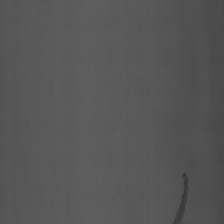water_spot: (171, 167, 191, 224)
